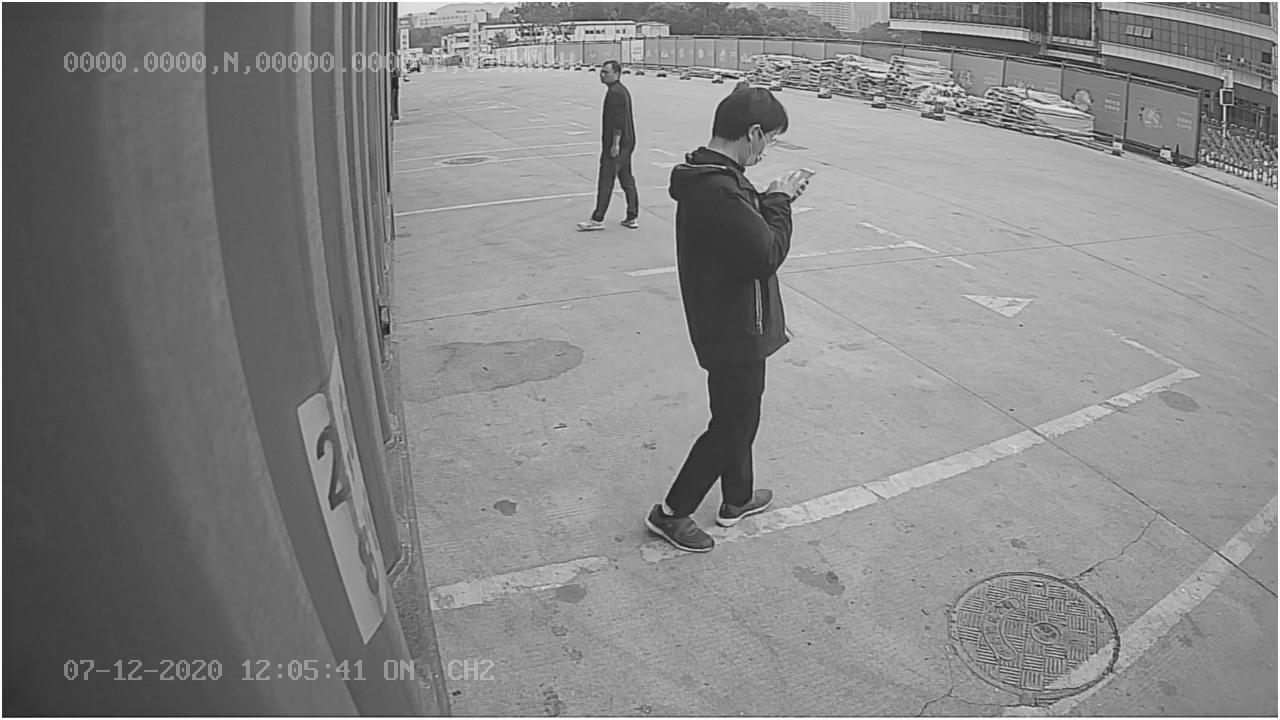person: (641, 76, 815, 556)
